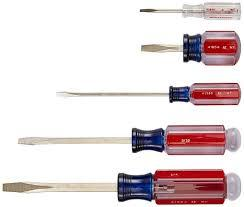screwdriver: (1, 167, 241, 204), (17, 124, 241, 155), (55, 81, 241, 105), (139, 29, 240, 66), (138, 2, 241, 19)
